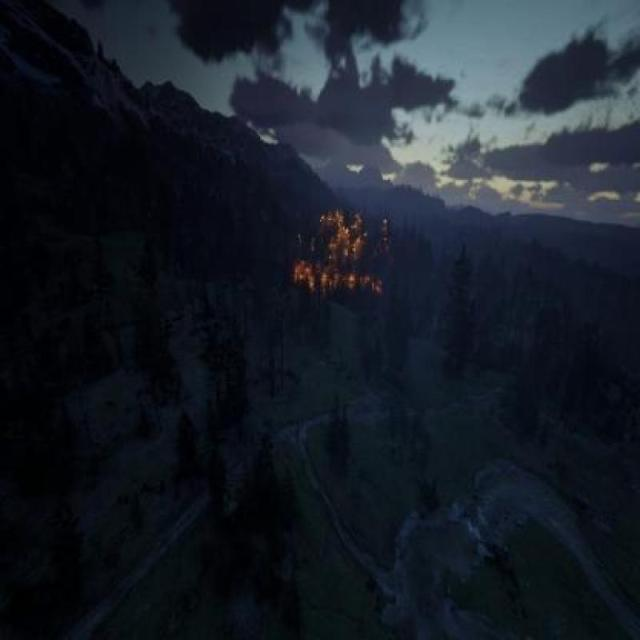Fire: (279, 191, 404, 314)
